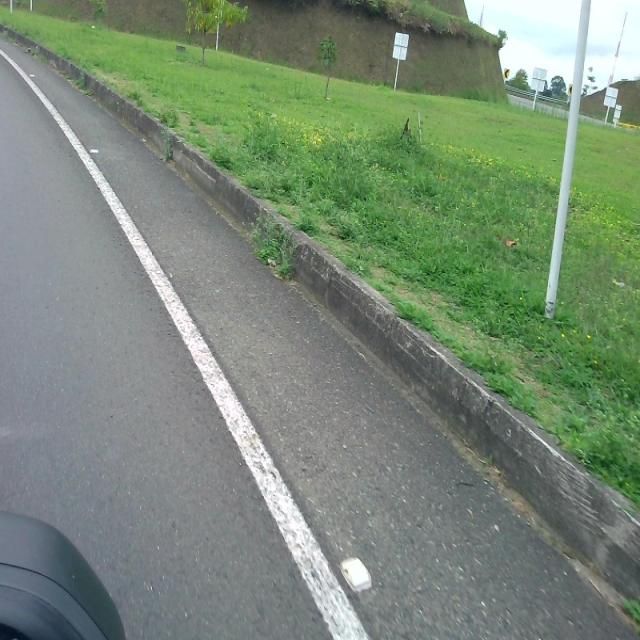DITCH: (1, 24, 638, 638)
